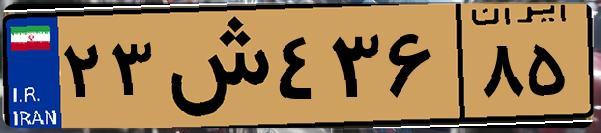2: (57, 26, 110, 100)
3: (330, 28, 385, 110), (110, 28, 158, 98)
4: (270, 28, 330, 110)
5: (525, 38, 570, 115)
6: (385, 28, 445, 110)
8: (475, 38, 525, 113)
ش: (158, 12, 270, 120)
